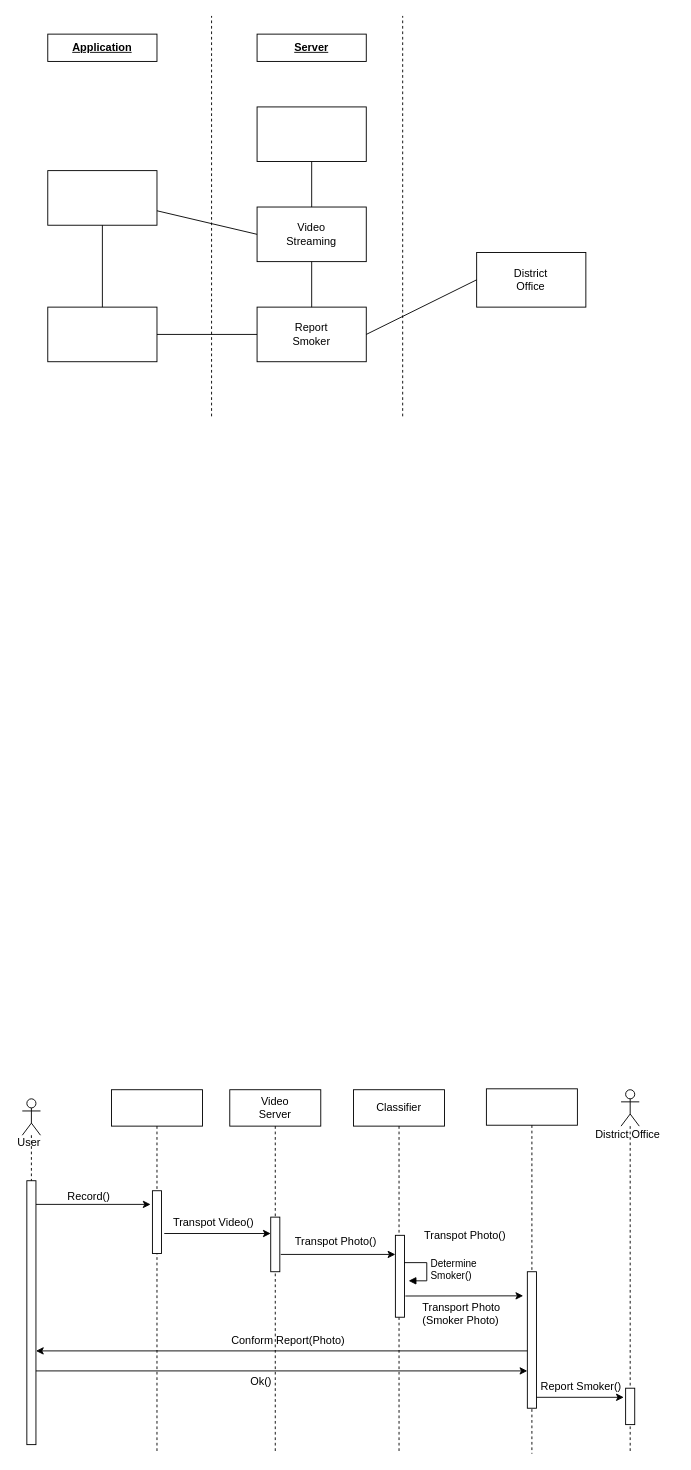
Some shapes in this 691 by 1470 pixel diagram are drawn without their labels. The shapes that lost their labels are listed below. From the top down, each one's centre as x and y in pixels, then its label:
the point at 311,134: Classifier Smoker
the point at 102,197: Smart Phone (record)
the point at 102,334: User Interface
the point at 156,1271: Smartphone
the point at 531,1271: Report
